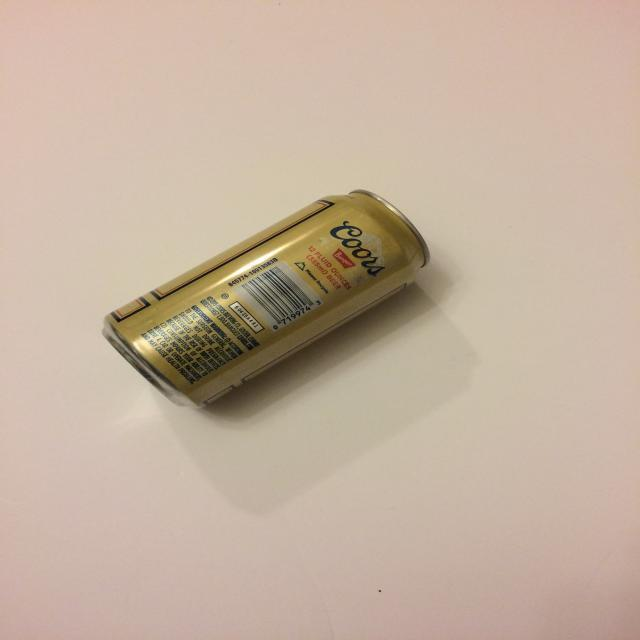metal: (96, 188, 435, 408)
